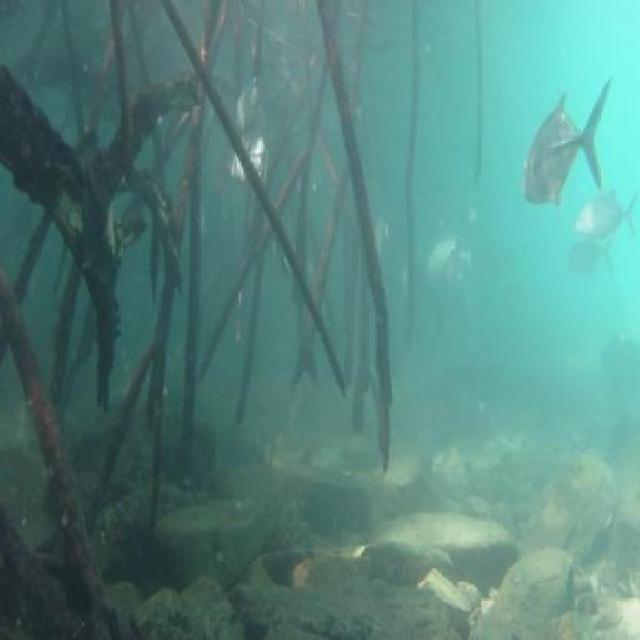Caranx_sexfasciatus_juvenile: (520, 69, 612, 214), (572, 192, 638, 248), (423, 233, 477, 298), (228, 130, 268, 193), (361, 203, 394, 269), (566, 242, 616, 284), (236, 81, 264, 144)
